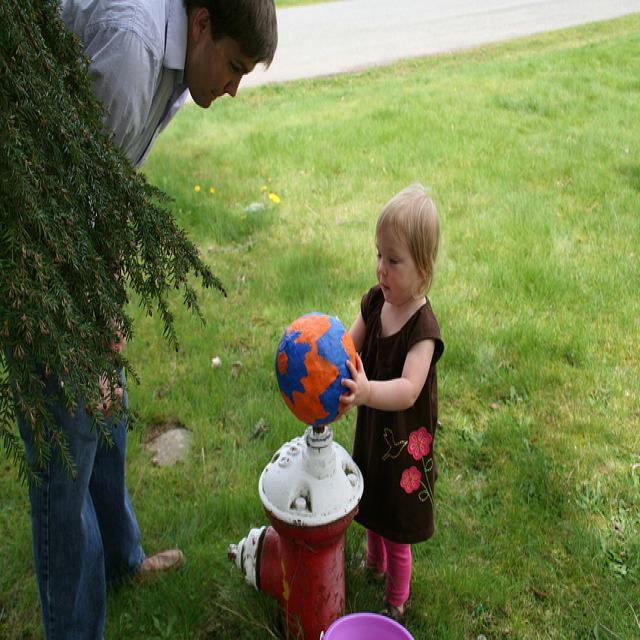fire_hydrant: (226, 421, 363, 640)
